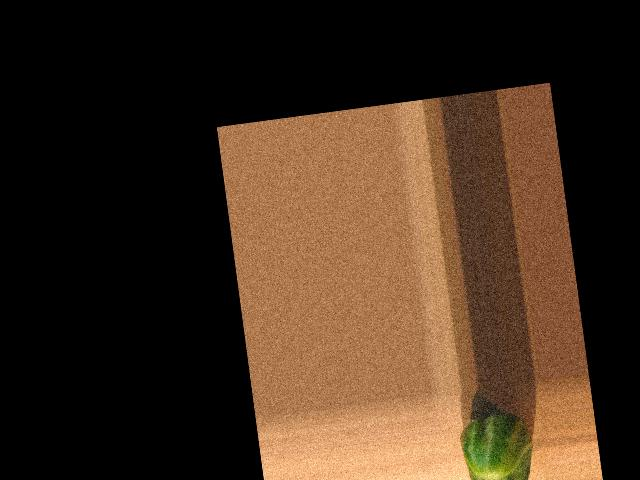cucumber: (456, 409, 541, 480)
